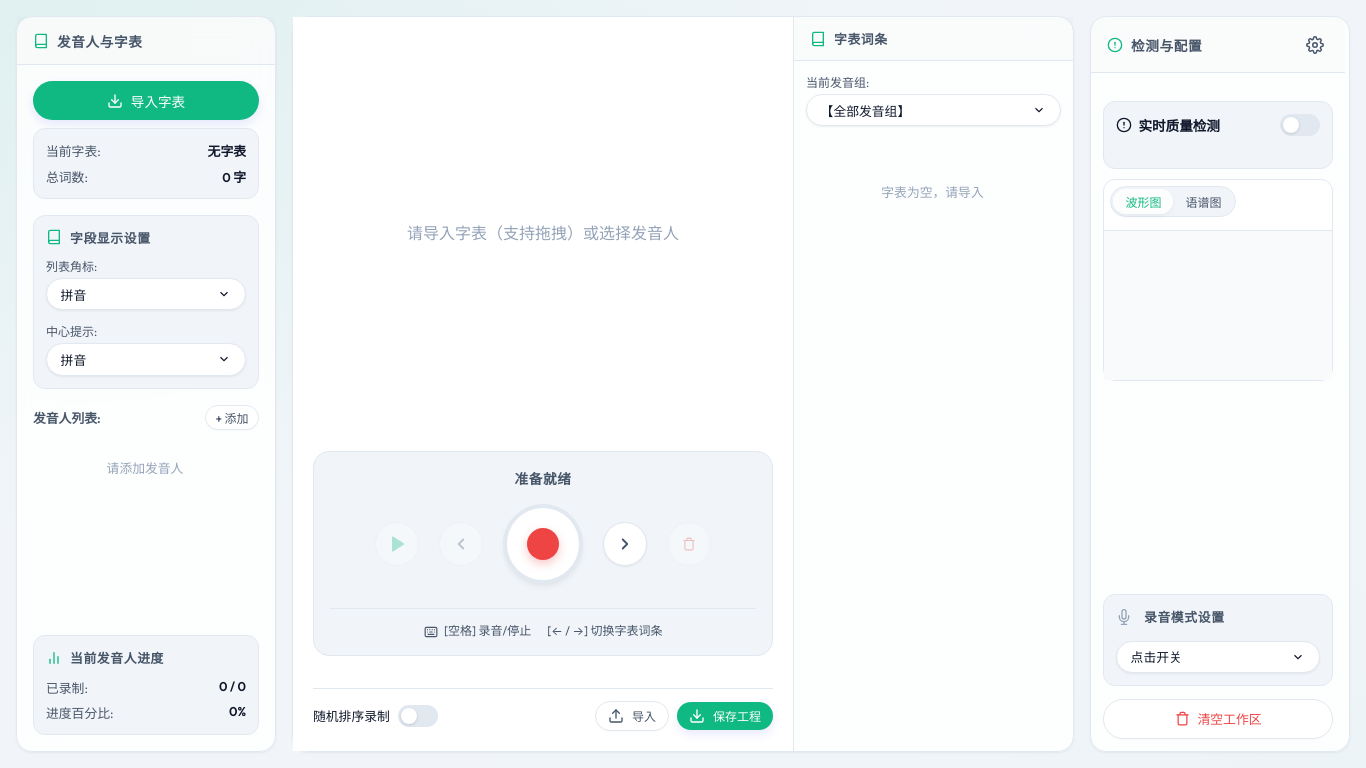
Test: 清空工作区 › 保留已保存设置，并让面板重新采用这些设置
The width and height of the screenshot is (1366, 768).
Click the button "清空工作区" at (1218, 719), box left=1103, top=699, right=1333, bottom=739
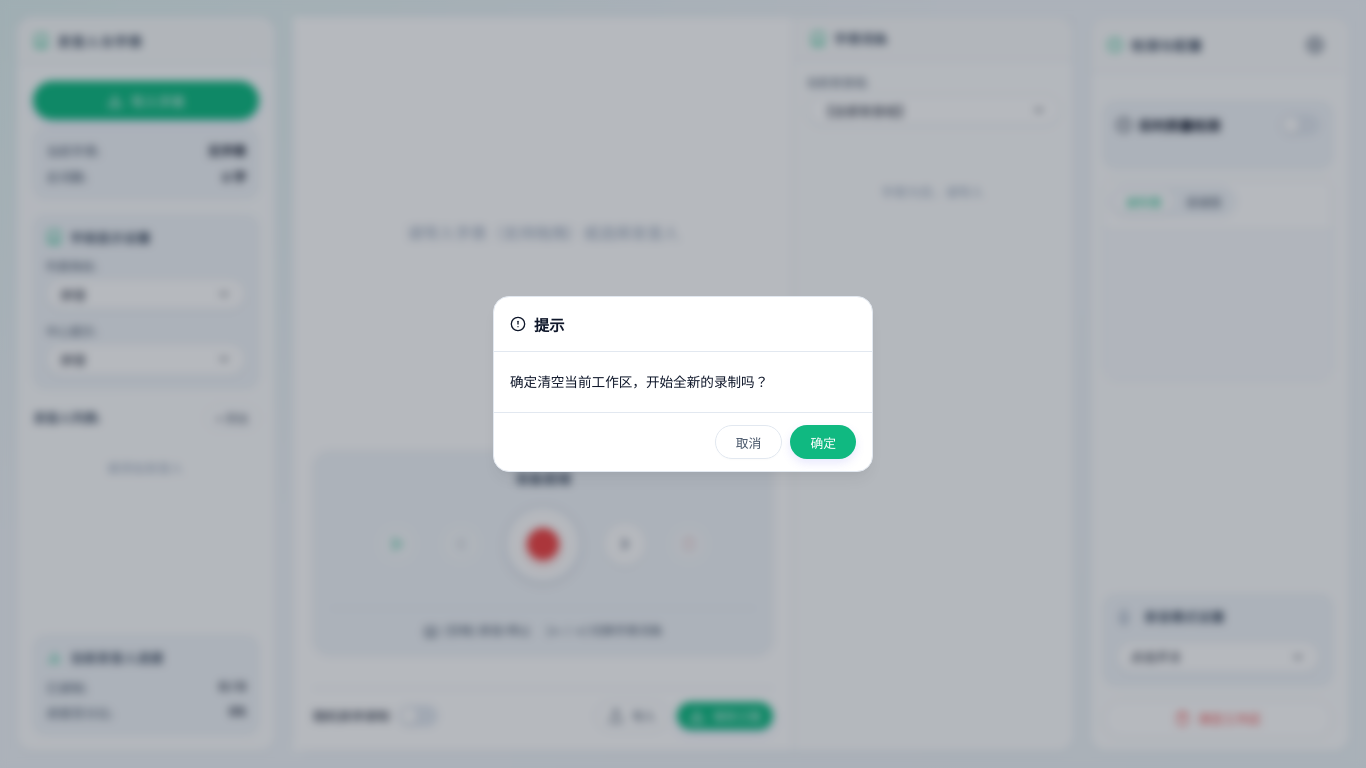
Click the button "确定" at (823, 442), box left=790, top=425, right=856, bottom=459
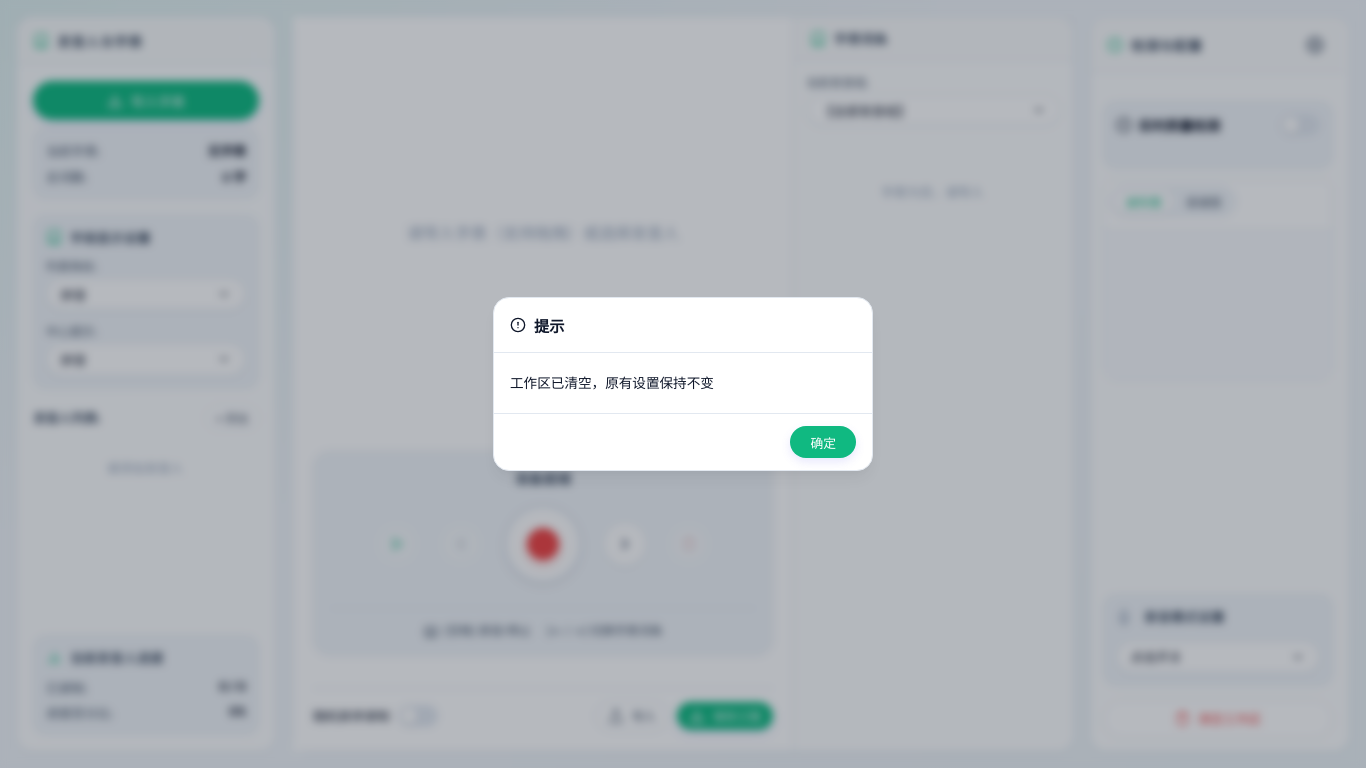
Expected: the text "工作区已清空，原有设置保持不变" is shown, left=510, top=374, right=714, bottom=392
